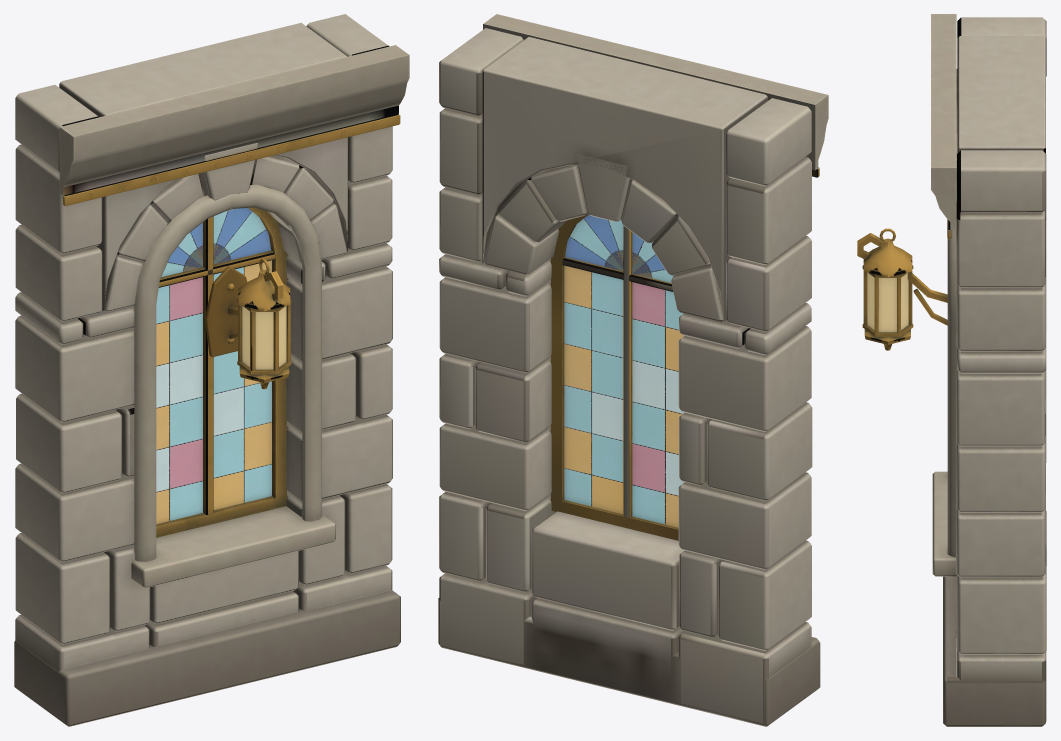
Rendered from env-glass-town.glb.
3 views of the same model, side by side, from view 1: azimuth 30°, elevation 25°; view 2: azimuth 150°, elevation 25°; view 3: azimuth 270°, elevation 25° (orthographic). The views are drawn at different scales.
Visible parts, largest first — view 1: glass-window, glass-sconce; view 2: glass-window; view 3: glass-window, glass-sconce.
Boxes of the visible parts, box(x1,y1,x2,y2) form: glass-window: box(14, 14, 409, 726); glass-sconce: box(205, 258, 291, 389); glass-window: box(438, 14, 828, 726); glass-window: box(931, 14, 1046, 726); glass-sconce: box(857, 228, 947, 350).
Size of the model in its own units: 1.06 by 1.8 by 0.5509.
4 materials, 4 textured.
